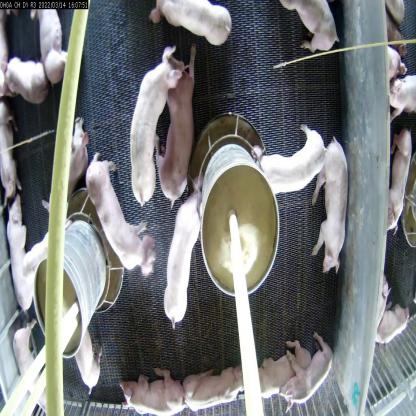Pig: (80, 150, 158, 271), (123, 47, 166, 203), (168, 182, 206, 340), (150, 59, 190, 193), (255, 122, 316, 207), (123, 349, 191, 415), (7, 218, 53, 314), (239, 339, 296, 414), (317, 112, 344, 262), (156, 0, 226, 56), (192, 339, 243, 415), (30, 0, 79, 76), (297, 350, 335, 414), (3, 58, 39, 110), (0, 124, 16, 186)
